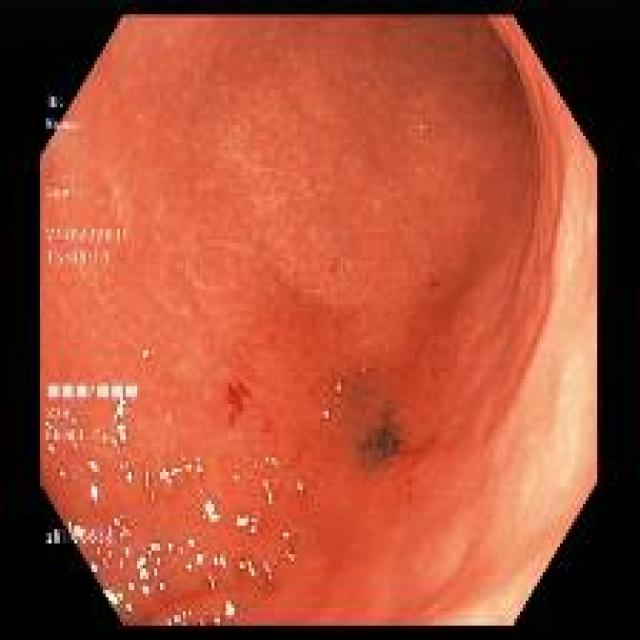ulcerative-colitis: (40, 17, 598, 625)
